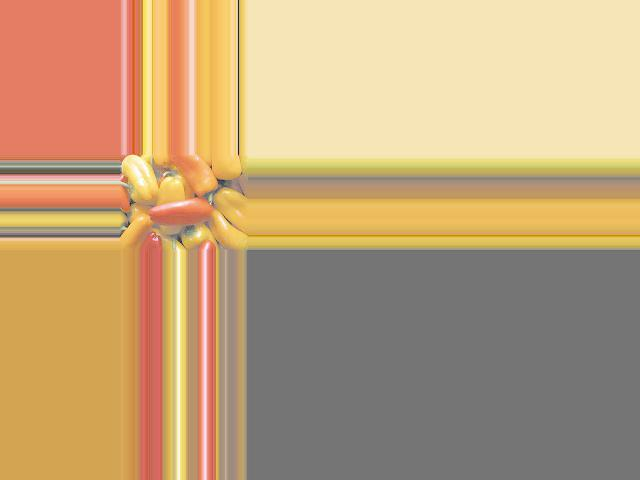bell_pepper: (120, 156, 161, 200)
